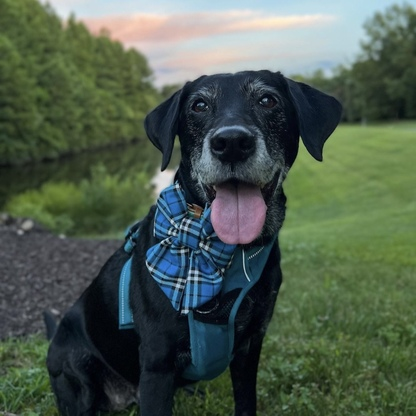labrado: (42, 65, 350, 416)
